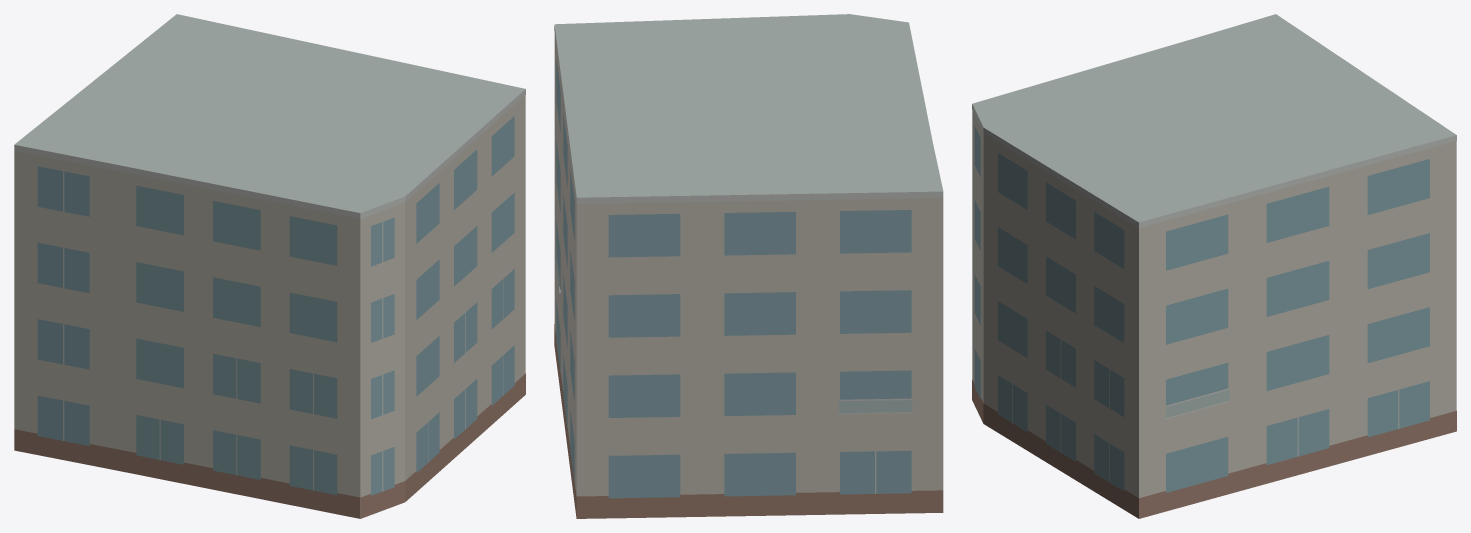
Rendered from survey-upis-32810724.glb.
3 views of the same model, side by side, from view 1: azimuth 30°, elevation 25°; view 2: azimuth 150°, elevation 25°; view 3: azimuth 270°, elevation 25° (orthographic). The views are drawn at different scales.
Visible parts, largest first — view 1: survey-upis-32810724.tmp; view 2: survey-upis-32810724.tmp; view 3: survey-upis-32810724.tmp.
Boxes of the visible parts, x1,y1,x2,y2 form: survey-upis-32810724.tmp: (14,14,525,518); survey-upis-32810724.tmp: (554,14,943,518); survey-upis-32810724.tmp: (972,14,1456,518).
Bounding box in the file's own units: 18.84 × 12.48 × 18.51.
